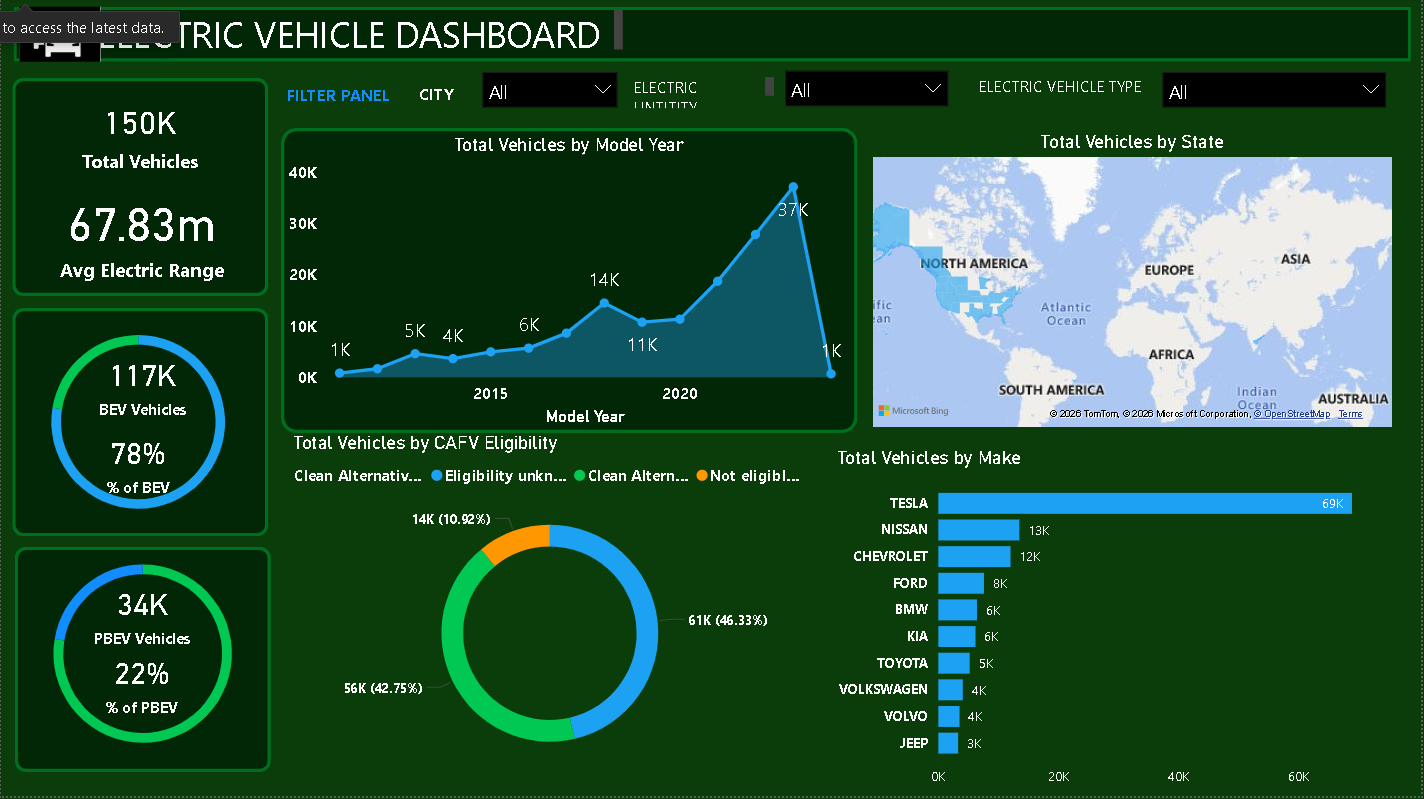

The dashboard page shown, as its layout file describes it:
{"tool":"powerbi","page":{"name":"Dashboard","canvas":[1280,720],"ordinal":0},"visuals":[{"type":"shape","box":[10.9,8.4,1260.3,49.4],"z":0},{"type":"textbox","box":[82,6,483.6,49.4],"z":1000},{"type":"shape","box":[10.6,72.6,230.9,196.6],"z":2000},{"type":"card","fields":{"Values":["Electric_Vehicle_Population_Data.Total Vehicles"]},"box":[17.2,72.6,217.7,100.3],"z":3000},{"type":"card","title":"Avg Electric Range","fields":{"Values":["Electric_Vehicle_Population_Data.Avg Range"]},"box":[18.5,155.7,217.7,113.5],"z":4000},{"type":"shape","box":[10.6,279.8,230.9,205.9],"z":5000},{"type":"shape","box":[11.9,494.8,230.9,203.2],"z":6000},{"type":"donutChart","title":"Avg Electric Range","fields":{"Category":["Electric_Vehicle_Population_Data.Electric Vehicle Type"],"Y":["Electric_Vehicle_Population_Data.Total Vehicles"]},"box":[11.9,279.8,223,205.9],"z":7000},{"type":"card","fields":{"Values":["Electric_Vehicle_Population_Data.BEV Vehicles"]},"box":[60.7,312.7,134.6,72.6],"z":8000},{"type":"card","fields":{"Values":["Electric_Vehicle_Population_Data.% of BEV"]},"box":[56.7,382.7,134.6,71.3],"z":9000},{"type":"donutChart","title":"Avg Electric Range","fields":{"Category":["Electric_Vehicle_Population_Data.Electric Vehicle Type"],"Y":["Electric_Vehicle_Population_Data.Total Vehicles"]},"box":[15.8,485.6,224.3,211.1],"z":10000},{"type":"card","fields":{"Values":["Electric_Vehicle_Population_Data.PBEV Vehicles"]},"box":[45.8,518.6,164,72.4],"z":11000},{"type":"card","fields":{"Values":["Electric_Vehicle_Population_Data.% of PBEV"]},"box":[59.4,581.9,134.6,71.3],"z":12000},{"type":"shape","box":[252.1,117,519.8,275],"z":13000},{"type":"areaChart","fields":{"Category":["Electric_Vehicle_Population_Data.Model Year"],"Y":["Electric_Vehicle_Population_Data.Total Vehicles"]},"box":[252.7,122.2,519.2,269.3],"z":14000},{"type":"filledMap","fields":{"Category":["Electric_Vehicle_Population_Data.State"]},"box":[781.5,119.4,477.6,272.6],"z":15000},{"type":"barChart","fields":{"Category":["Electric_Vehicle_Population_Data.Make"],"Y":["Electric_Vehicle_Population_Data.Total Vehicles"]},"box":[748.5,404.9,510.6,315.8],"z":16000},{"type":"donutChart","title":"Total Vehicles by CAFV Eligibility","fields":{"Category":["Electric_Vehicle_Population_Data.Clean Alternative Fuel Vehicle (CAFV) Eligibility"],"Y":["Electric_Vehicle_Population_Data.Total Vehicles"]},"box":[258.1,390.8,474,314.8],"z":17000},{"type":"textbox","box":[252.1,72.4,114.6,30.2],"z":18000},{"type":"slicer","fields":{"Values":["Electric_Vehicle_Population_Data.City"]},"box":[423.3,56.7,142.3,51.9],"z":19000},{"type":"textbox","box":[372.5,71.2,59.7,37.5],"z":20000},{"type":"slicer","fields":{"Values":["Electric_Vehicle_Population_Data.Electric Utility"]},"box":[697.1,55.5,167.6,51.9],"z":21000},{"type":"textbox","box":[565.5,66.5,136.1,37.5],"z":22000},{"type":"slicer","fields":{"Values":["Electric_Vehicle_Population_Data.Electric Vehicle Type"]},"box":[1037.2,56.7,221.9,51.9],"z":23000},{"type":"textbox","box":[876.8,65.1,160.4,37.4],"z":24000},{"type":"image","box":[12.1,8.4,82,49.4],"z":25000}]}

Visuals, with their boxes on the page's 1280x720 design canvas (x1, y1, x2, y2). These are canvas units, not pixel positions in the 1424x799 screenshot, which may show the page scaled, cropped or inside an application window:
shape: <bbox>11, 8, 1271, 58</bbox>
textbox: <bbox>82, 6, 566, 55</bbox>
shape: <bbox>11, 73, 242, 269</bbox>
card - Electric_Vehicle_Population_Data.Total Vehicles: <bbox>17, 73, 235, 173</bbox>
"Avg Electric Range" card: <bbox>18, 156, 236, 269</bbox>
shape: <bbox>11, 280, 242, 486</bbox>
shape: <bbox>12, 495, 243, 698</bbox>
"Avg Electric Range" donutChart: <bbox>12, 280, 235, 486</bbox>
card - Electric_Vehicle_Population_Data.BEV Vehicles: <bbox>61, 313, 195, 385</bbox>
card - Electric_Vehicle_Population_Data.% of BEV: <bbox>57, 383, 191, 454</bbox>
"Avg Electric Range" donutChart: <bbox>16, 486, 240, 697</bbox>
card - Electric_Vehicle_Population_Data.PBEV Vehicles: <bbox>46, 519, 210, 591</bbox>
card - Electric_Vehicle_Population_Data.% of PBEV: <bbox>59, 582, 194, 653</bbox>
shape: <bbox>252, 117, 772, 392</bbox>
areaChart - Electric_Vehicle_Population_Data.Model Year x Electric_Vehicle_Population_Data.Total Vehicles: <bbox>253, 122, 772, 392</bbox>
filledMap - Electric_Vehicle_Population_Data.State: <bbox>782, 119, 1259, 392</bbox>
barChart - Electric_Vehicle_Population_Data.Make x Electric_Vehicle_Population_Data.Total Vehicles: <bbox>748, 405, 1259, 721</bbox>
"Total Vehicles by CAFV Eligibility" donutChart: <bbox>258, 391, 732, 706</bbox>
textbox: <bbox>252, 72, 367, 103</bbox>
slicer - Electric_Vehicle_Population_Data.City: <bbox>423, 57, 566, 109</bbox>
textbox: <bbox>372, 71, 432, 109</bbox>
slicer - Electric_Vehicle_Population_Data.Electric Utility: <bbox>697, 56, 865, 107</bbox>
textbox: <bbox>566, 66, 702, 104</bbox>
slicer - Electric_Vehicle_Population_Data.Electric Vehicle Type: <bbox>1037, 57, 1259, 109</bbox>
textbox: <bbox>877, 65, 1037, 102</bbox>
image: <bbox>12, 8, 94, 58</bbox>
